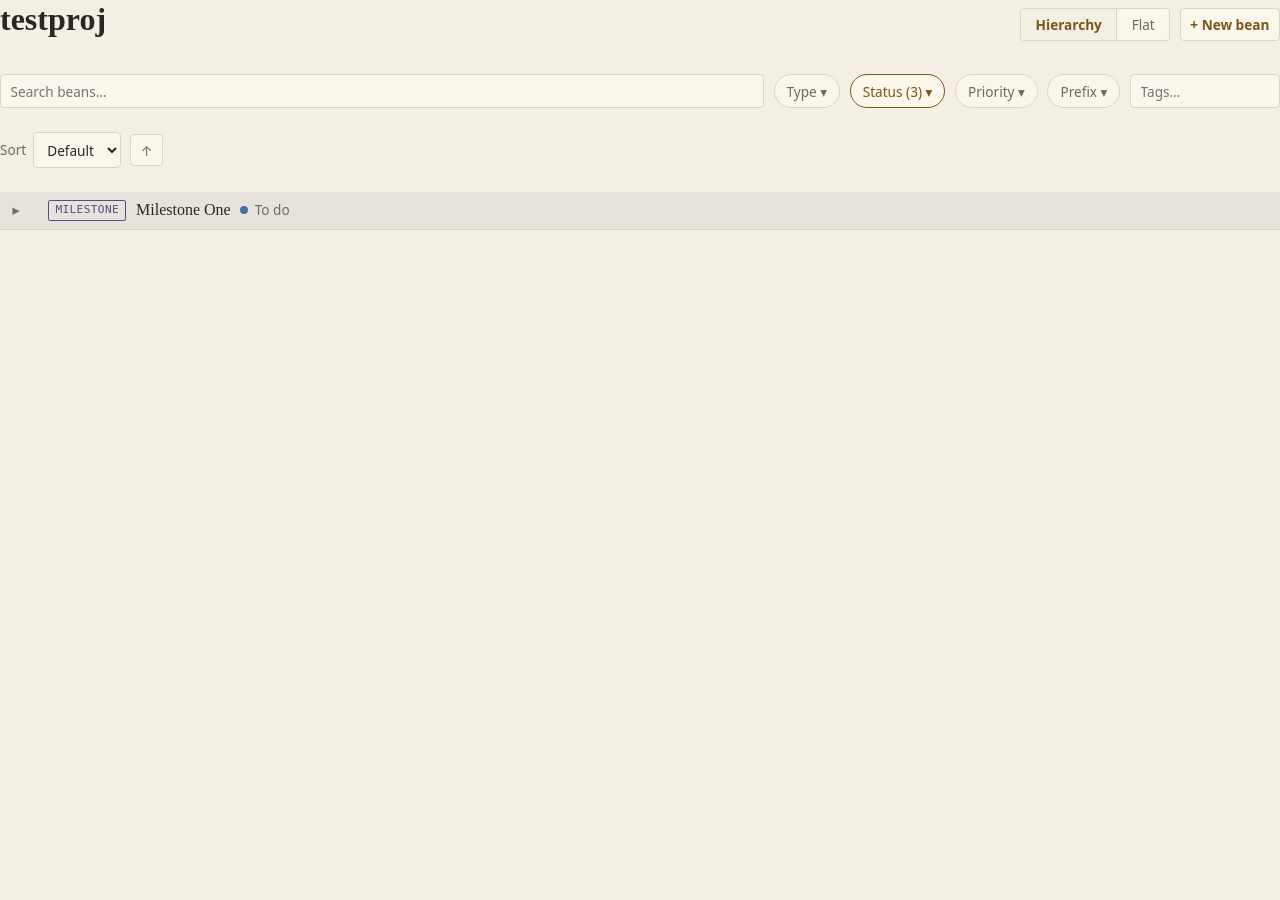
Scenario: ProjectList › offers every bean as a parent, so a child can be created without opening its parent
Click the button "+ New bean".
click(1230, 24)  # box [1180,8,1279,41]
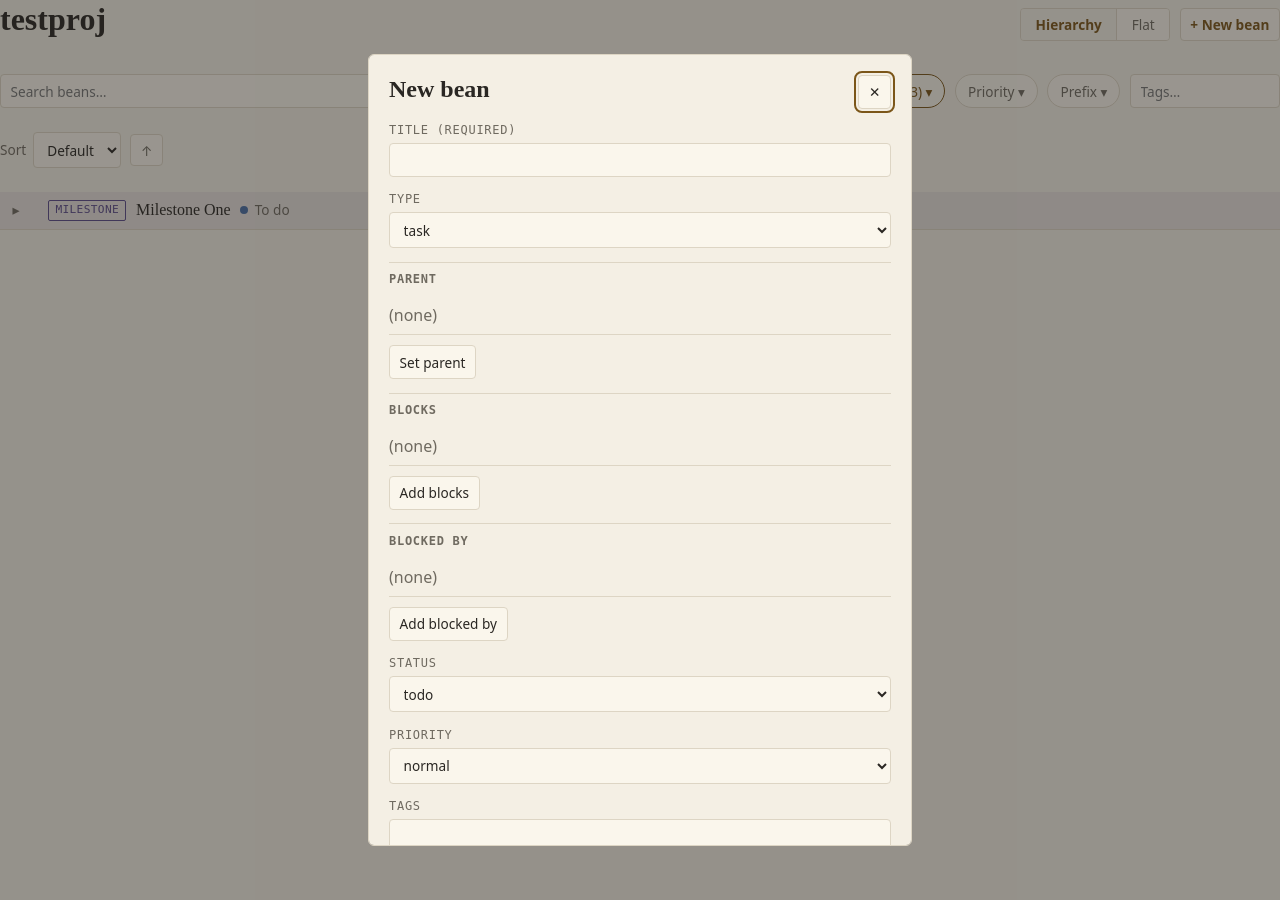
Click the button "Set parent".
click(433, 362)  # box [389,345,476,379]
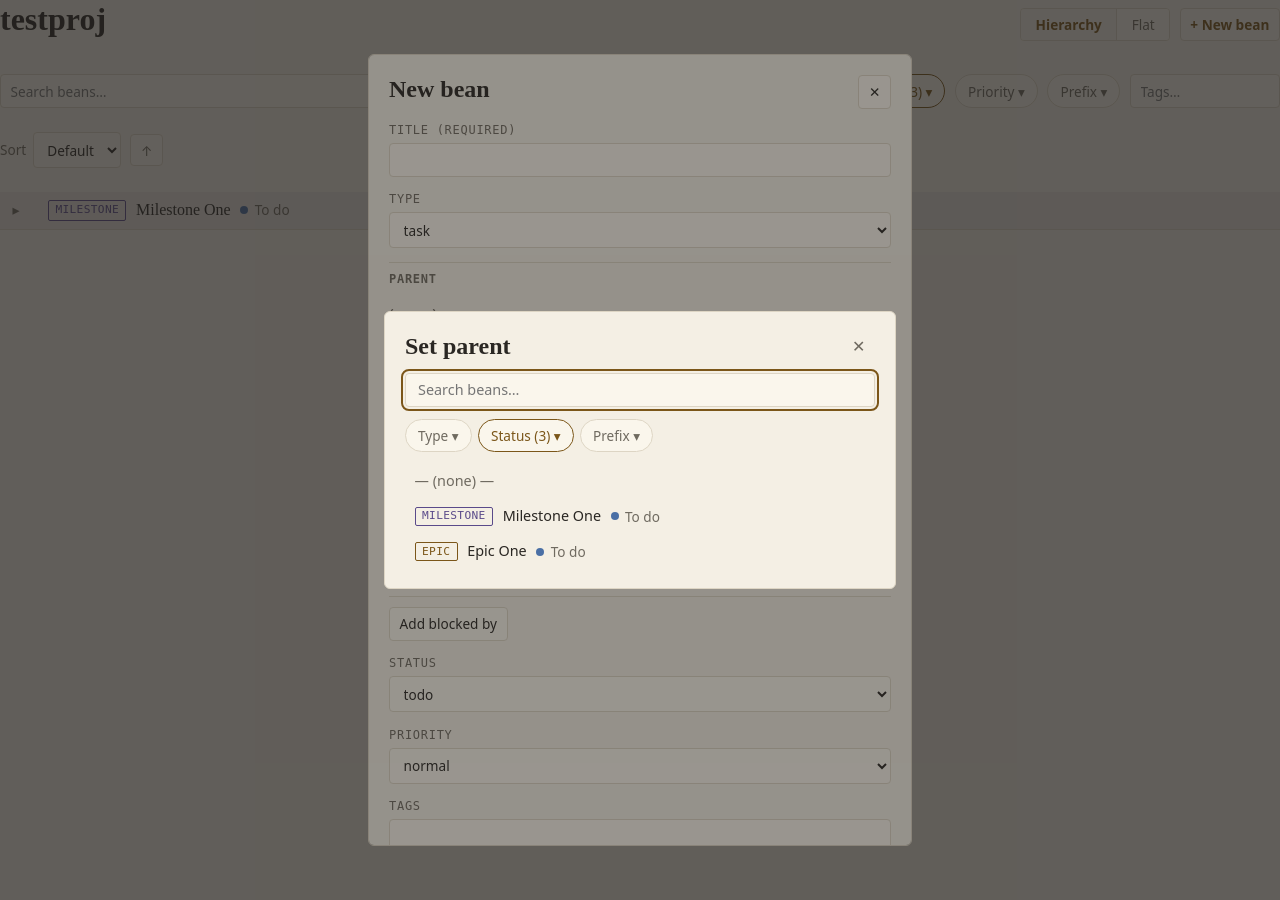
Check: the text "Milestone One" is shown, box [503,506,601,526]
Check: the text "Epic One" is shown, box [467,541,527,562]
